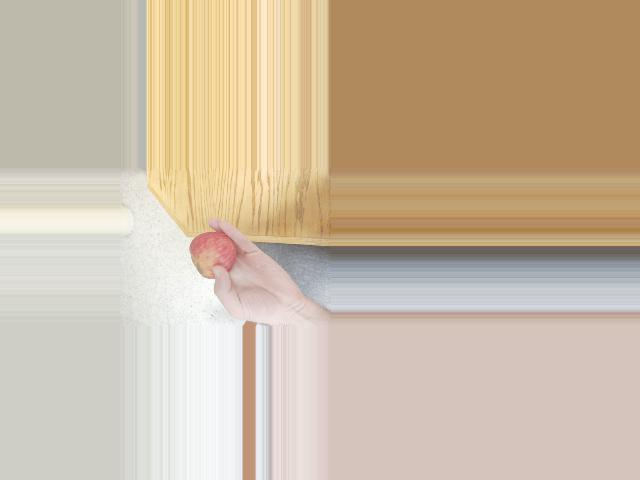apple: (186, 230, 246, 281)
